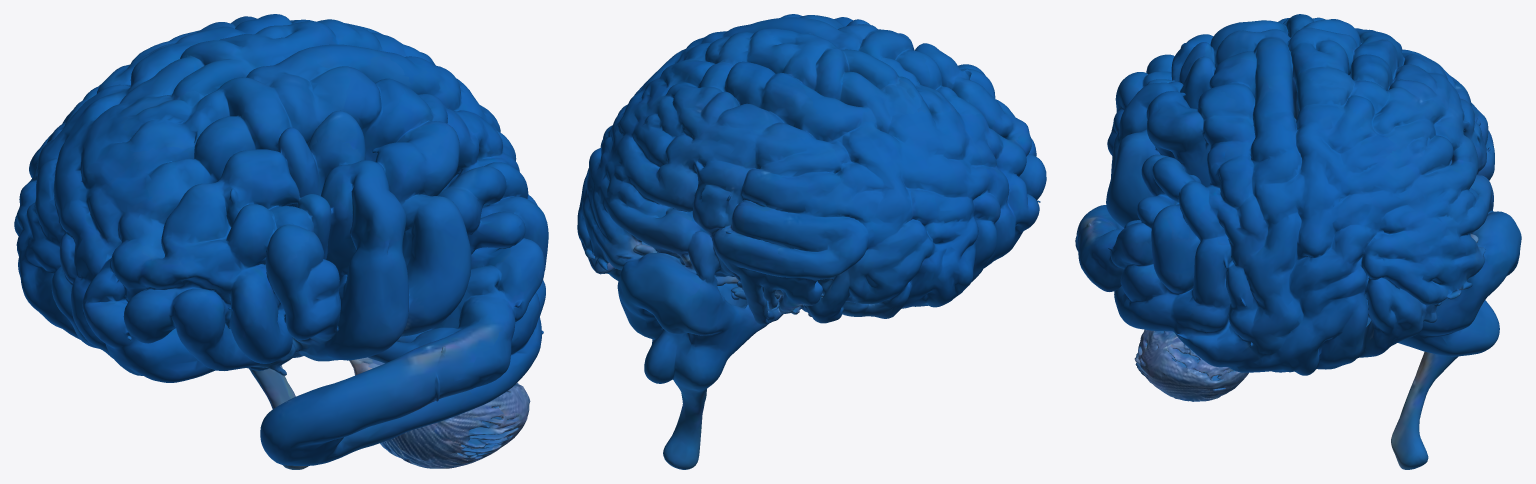
Rendered from brain.glb.
The picture shows the model from 3 angles, left to right: view 1: azimuth 30°, elevation 25°; view 2: azimuth 150°, elevation 25°; view 3: azimuth 270°, elevation 25°; orthographic projection. The views are drawn at different scales.
Parts seen in each view (by area): view 1: tripo_node_a2c5f821-2d28-448d-a45a-0895c31a7b11; view 2: tripo_node_a2c5f821-2d28-448d-a45a-0895c31a7b11; view 3: tripo_node_a2c5f821-2d28-448d-a45a-0895c31a7b11.
Boxes of the visible parts, left/top/right/bottom form: tripo_node_a2c5f821-2d28-448d-a45a-0895c31a7b11: left=14, top=14, right=548, bottom=469; tripo_node_a2c5f821-2d28-448d-a45a-0895c31a7b11: left=577, top=14, right=1046, bottom=469; tripo_node_a2c5f821-2d28-448d-a45a-0895c31a7b11: left=1075, top=14, right=1521, bottom=469.
Bounding box in the file's own units: 0.972 × 0.9853 × 1.
Materials: 1 (1 with a texture image).
